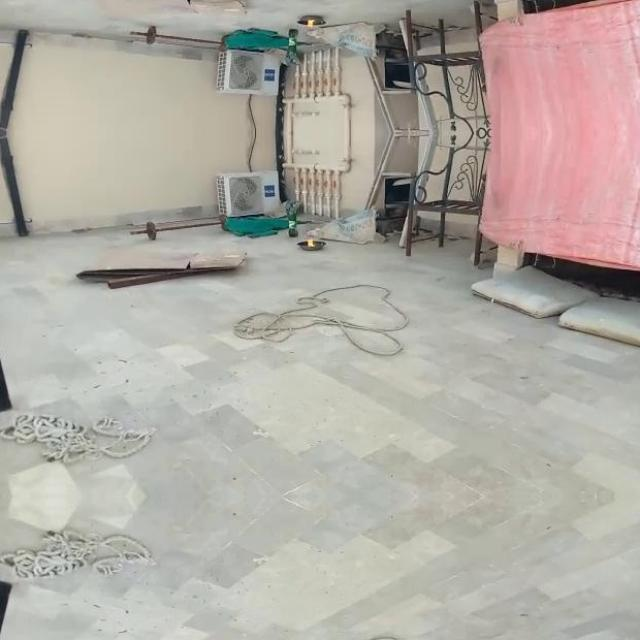smoke: (306, 234, 317, 248), (306, 18, 317, 32)
